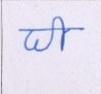i_matra: (54, 16, 69, 51)
